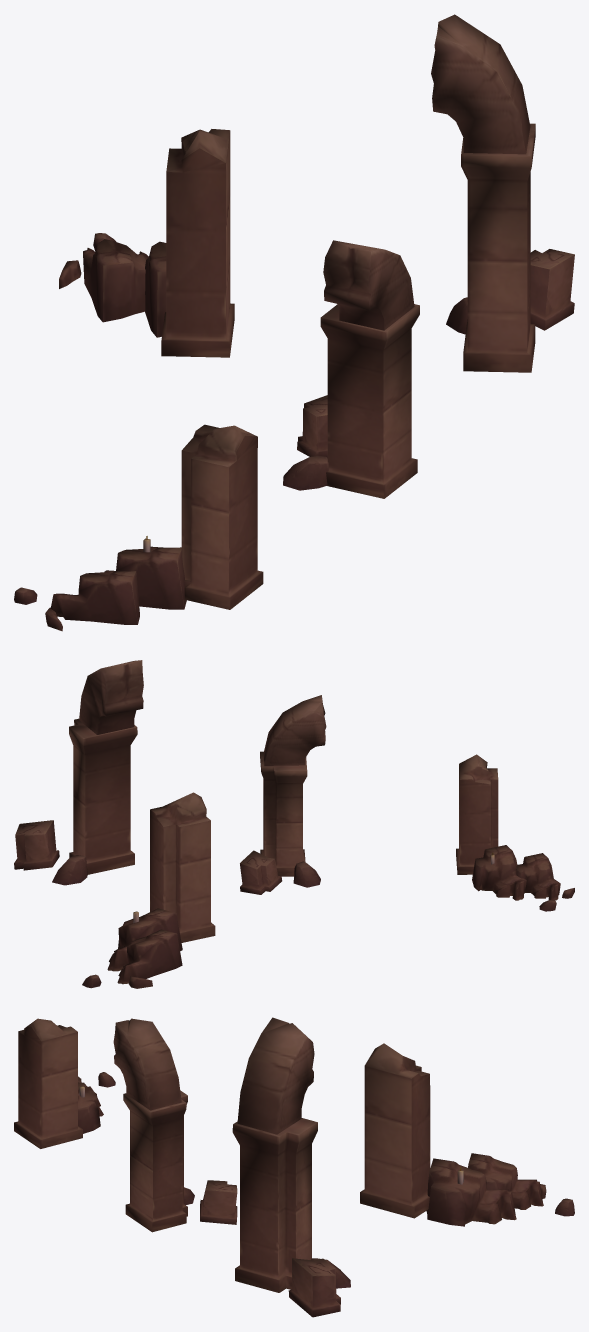
Rendered from boss2_wujian1_1.fbx.
3 renders of one model, top to bottom at view 1: azimuth 30°, elevation 25°; view 2: azimuth 150°, elevation 25°; view 3: azimuth 270°, elevation 25°, orthographic. The views are drawn at different scales.
Parts seen in each view (by area): view 1: boss2_wujian1_1; view 2: boss2_wujian1_1; view 3: boss2_wujian1_1.
Boxes of the visible parts, x1,y1,x2,y2 form: boss2_wujian1_1: [14, 14, 574, 631]; boss2_wujian1_1: [14, 660, 574, 988]; boss2_wujian1_1: [14, 1017, 574, 1317].
Size of the model in its own units: 4361 by 2092 by 4200.
